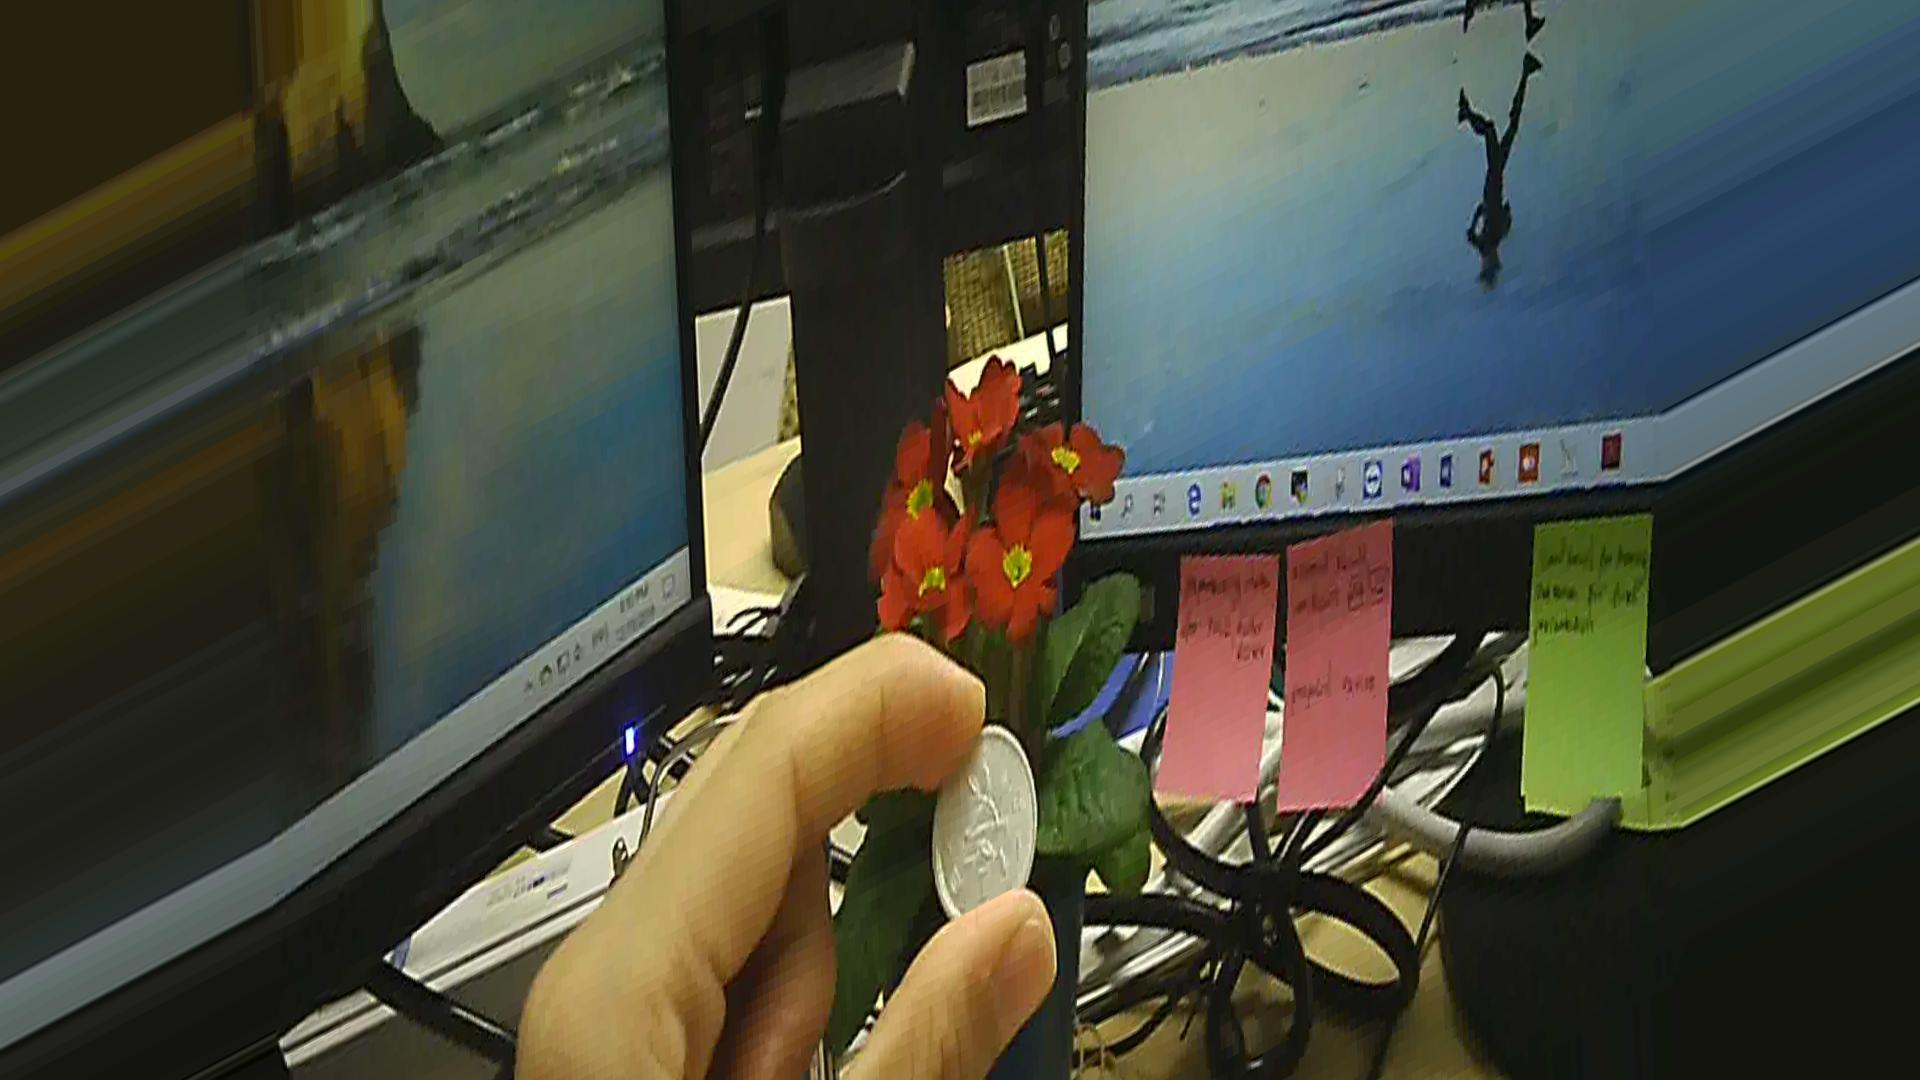1 Yen: (923, 728, 1062, 934)
